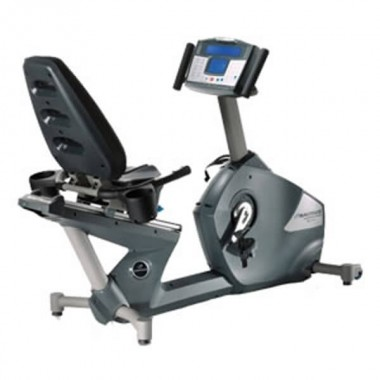gym_bike: (20, 30, 367, 348)
